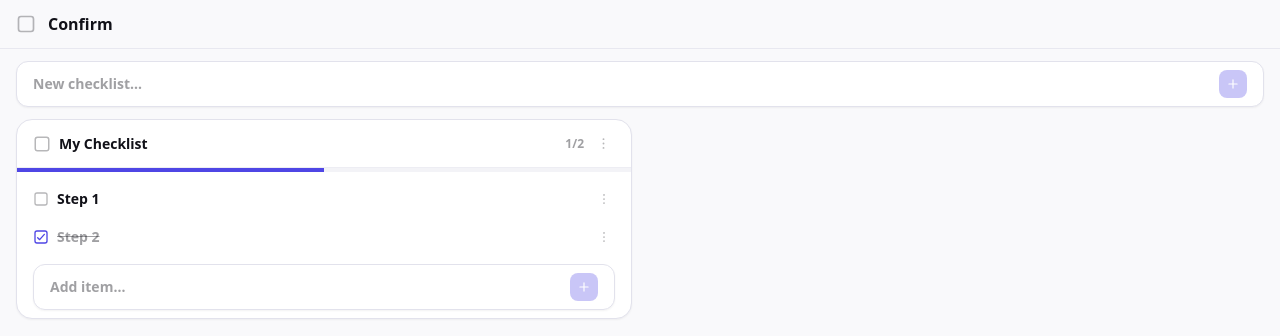
Confirm › 4d-6: list options menu opens with rename and delete
Step 1. Click the button named "List options" → point(604, 144), box [592,132,615,155]
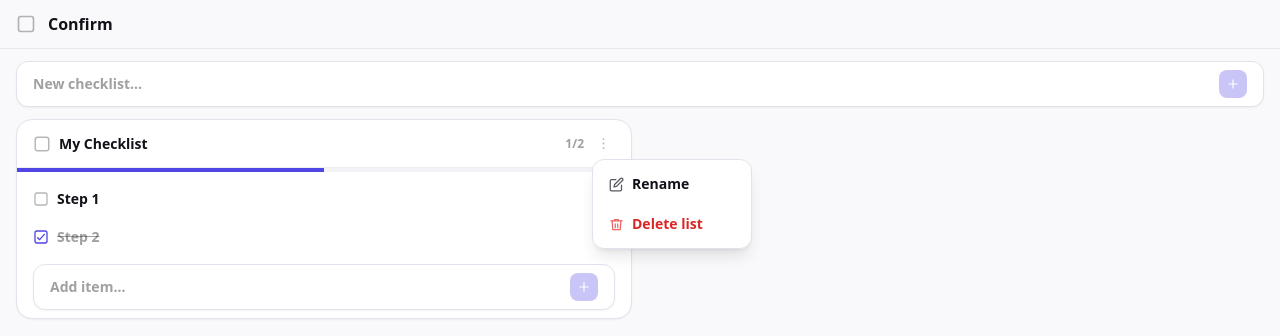
Check: the button "Rename" is shown, box [593,164,751,204]
Check: the button "Delete list" is shown, box [593,204,751,244]
